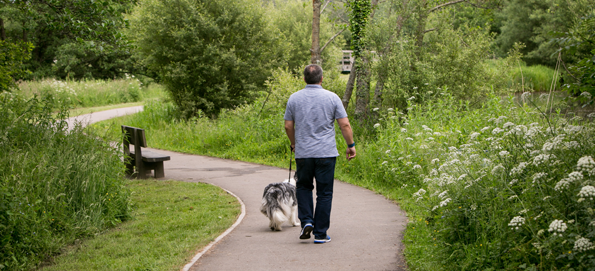feet: (294, 216, 337, 247)
